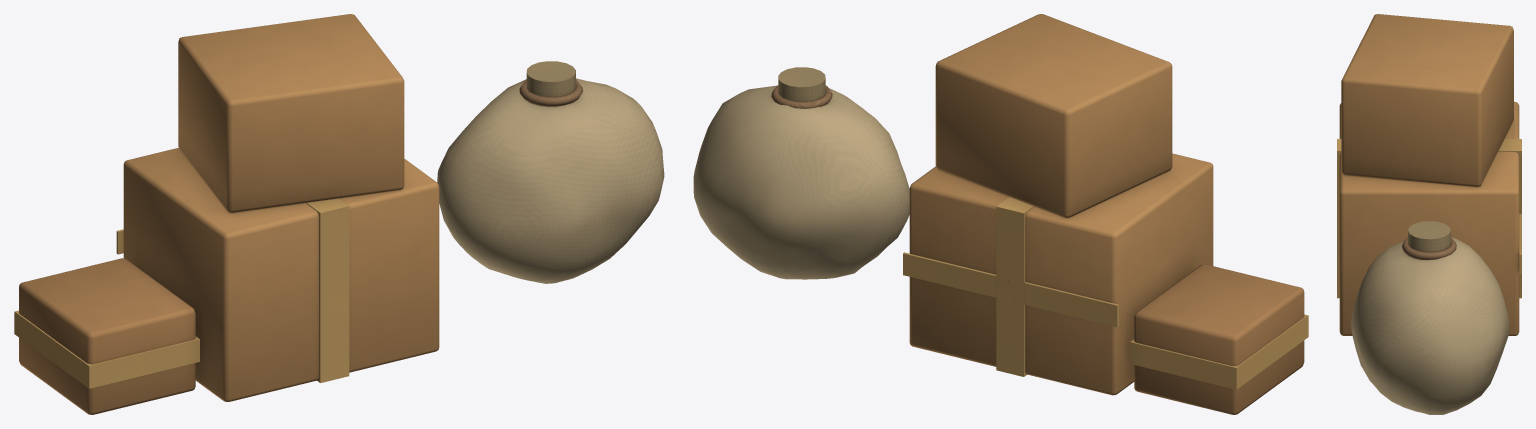
File: parcel_stack.fbx
The picture shows the model from 3 angles, left to right: view 1: azimuth 30°, elevation 25°; view 2: azimuth 150°, elevation 25°; view 3: azimuth 270°, elevation 25°; orthographic projection. The views are drawn at different scales.
Parts seen in each view (by area): view 1: parcel_stack; view 2: parcel_stack; view 3: parcel_stack.
Boxes of the visible parts, x1,y1,x2,y2 form: parcel_stack: (14,14,664,414); parcel_stack: (693,14,1308,414); parcel_stack: (1337,14,1521,414).
Bounding box in the file's own units: 1.65 × 0.7561 × 0.514.
